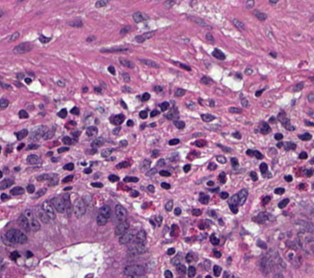nucleus: (187, 15, 211, 28), (5, 229, 27, 243), (73, 198, 86, 217), (30, 125, 46, 140), (42, 200, 55, 218), (114, 220, 129, 235), (51, 197, 65, 212), (119, 230, 134, 244), (135, 31, 154, 42), (36, 207, 49, 223), (115, 204, 127, 221), (18, 214, 30, 231), (62, 194, 72, 214), (13, 42, 31, 53), (252, 212, 271, 222), (100, 46, 128, 52), (132, 11, 147, 22), (139, 59, 159, 67), (134, 230, 146, 243), (237, 189, 247, 204), (0, 178, 13, 189), (119, 57, 133, 67), (29, 216, 39, 230), (173, 62, 190, 70), (232, 19, 244, 30), (166, 108, 178, 119), (43, 127, 54, 139), (99, 205, 110, 217), (212, 49, 225, 59), (111, 114, 124, 124), (26, 154, 39, 164), (96, 214, 107, 225), (254, 10, 266, 20), (91, 137, 103, 147), (140, 159, 150, 171), (116, 160, 131, 168), (10, 186, 23, 195), (68, 19, 82, 27), (260, 122, 270, 133), (86, 126, 97, 136), (16, 129, 27, 139), (48, 174, 58, 185), (34, 188, 45, 198), (199, 193, 209, 204), (228, 194, 238, 205), (217, 144, 231, 151), (170, 224, 178, 236), (201, 114, 214, 121), (0, 98, 8, 109), (187, 151, 198, 159), (210, 234, 218, 245), (95, 0, 107, 7), (124, 176, 138, 182), (57, 108, 66, 117), (9, 32, 19, 40), (201, 76, 211, 84), (175, 88, 185, 96), (18, 110, 28, 118), (174, 120, 184, 128), (62, 136, 72, 144), (146, 168, 156, 176), (154, 215, 162, 225), (256, 240, 266, 248), (37, 174, 50, 180), (163, 0, 174, 7), (101, 149, 112, 156), (165, 200, 172, 211), (120, 26, 129, 34), (194, 140, 206, 146), (216, 155, 225, 163), (249, 171, 257, 180), (26, 184, 34, 193), (241, 96, 248, 106), (63, 163, 73, 170), (260, 163, 267, 173), (218, 172, 225, 182), (108, 174, 118, 181), (62, 175, 72, 182), (39, 36, 50, 42), (159, 170, 170, 176), (244, 67, 252, 75), (121, 73, 129, 81), (160, 102, 168, 110), (139, 110, 147, 118), (254, 150, 262, 158), (262, 196, 270, 204), (229, 205, 237, 213), (199, 221, 207, 229), (245, 0, 254, 7), (206, 33, 213, 42), (66, 121, 75, 128), (169, 153, 178, 160), (229, 107, 241, 112), (169, 138, 179, 144), (27, 143, 37, 149), (274, 188, 284, 194), (108, 66, 115, 74), (255, 89, 263, 96), (186, 102, 194, 109), (274, 133, 282, 140), (183, 164, 190, 172), (91, 182, 102, 187), (1, 82, 10, 88), (231, 157, 237, 166), (192, 209, 201, 215), (58, 147, 68, 152), (142, 93, 149, 100), (71, 107, 78, 114), (157, 159, 164, 166), (147, 185, 154, 192), (154, 86, 162, 92), (150, 110, 158, 116), (208, 163, 216, 169), (161, 182, 169, 188), (220, 192, 228, 198), (174, 207, 180, 215), (17, 73, 24, 79), (57, 80, 64, 86), (233, 132, 240, 138), (17, 143, 23, 150), (246, 149, 253, 155), (151, 150, 158, 156), (131, 190, 138, 196), (1, 193, 7, 200), (208, 210, 215, 216), (122, 86, 130, 91), (121, 100, 126, 108), (127, 120, 133, 126), (113, 127, 119, 133), (94, 87, 101, 92), (84, 168, 91, 173), (88, 149, 96, 153), (25, 78, 31, 83), (209, 100, 214, 106), (120, 140, 126, 145), (269, 0, 276, 4), (270, 52, 275, 57), (269, 117, 274, 122), (277, 142, 282, 147), (87, 37, 93, 41), (207, 181, 213, 185), (82, 87, 87, 91), (64, 187, 70, 190)
